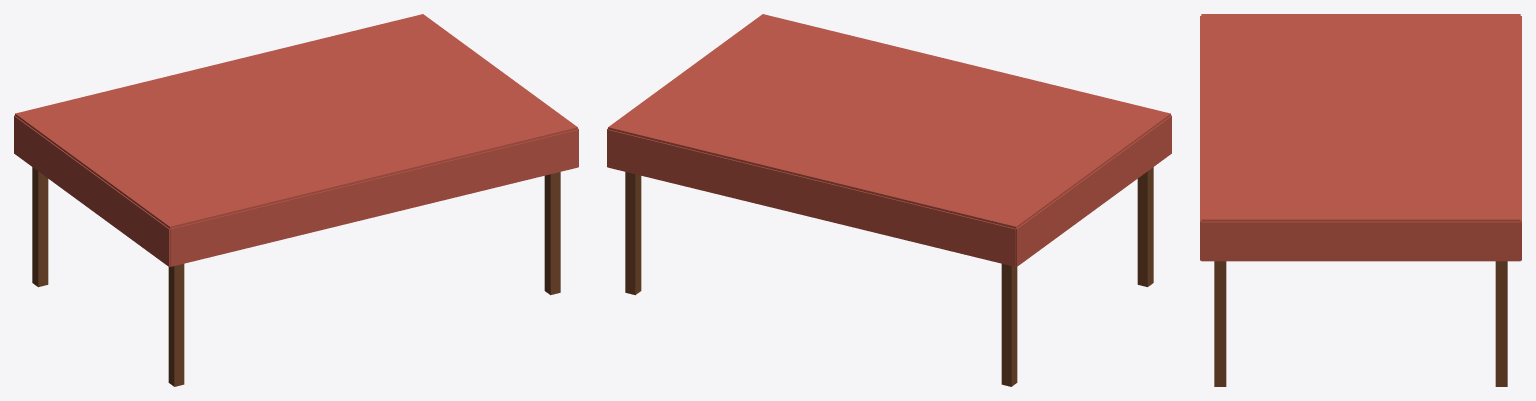
The model's file is table_kitchen.glb.
3 views of the same model, side by side, from view 1: azimuth 30°, elevation 25°; view 2: azimuth 150°, elevation 25°; view 3: azimuth 270°, elevation 25° (orthographic). The views are drawn at different scales.
Visible parts, largest first — view 1: tablecloth, table_kitchen; view 2: tablecloth, table_kitchen; view 3: tablecloth, table_kitchen.
Boxes of the visible parts, bbox=[...] form: tablecloth: bbox=[14, 14, 578, 266]; table_kitchen: bbox=[32, 167, 560, 386]; tablecloth: bbox=[607, 14, 1171, 266]; table_kitchen: bbox=[625, 167, 1153, 386]; tablecloth: bbox=[1200, 14, 1521, 261]; table_kitchen: bbox=[1214, 261, 1507, 386].
Size of the model in its own units: 2.05 by 0.8 by 1.35.
